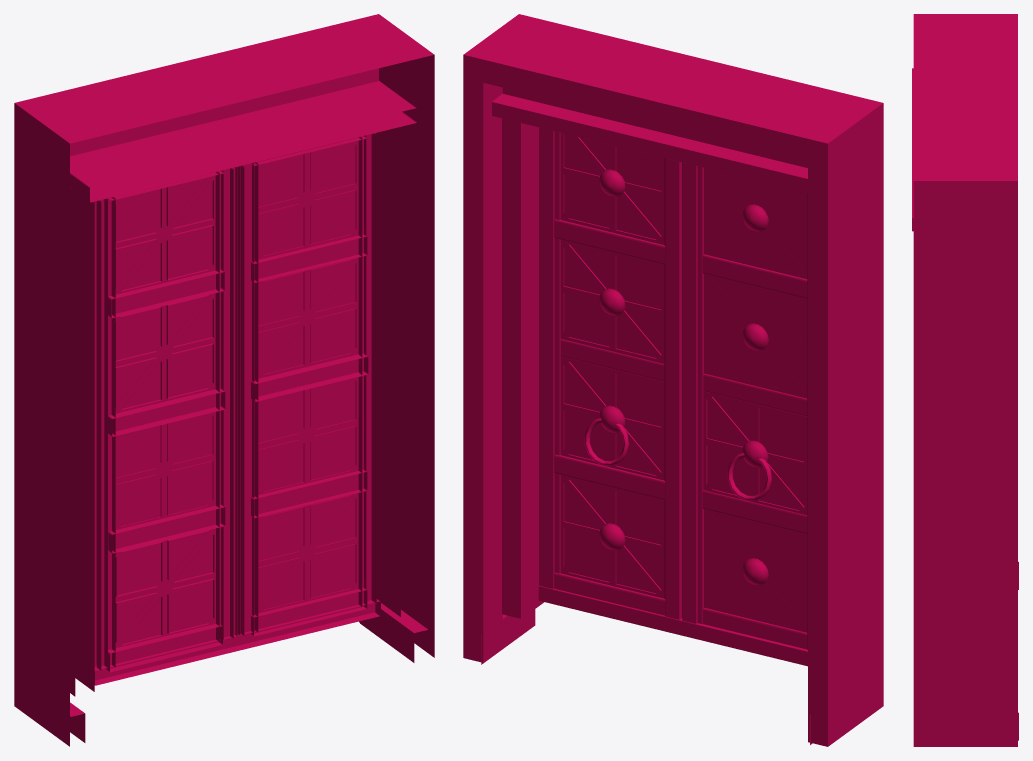
Rendered from SM_TapinakKapi.fbx.
3 views of the same model, side by side, from view 1: azimuth 30°, elevation 25°; view 2: azimuth 150°, elevation 25°; view 3: azimuth 270°, elevation 25° (orthographic). The views are drawn at different scales.
Visible parts, largest first — view 1: Kapilar_Orta_Tabak2; view 2: Kapilar_Orta_Tabak2; view 3: Kapilar_Orta_Tabak2.
Boxes of the visible parts, x1,y1,x2,y2 form: Kapilar_Orta_Tabak2: [14, 14, 434, 746]; Kapilar_Orta_Tabak2: [463, 14, 883, 746]; Kapilar_Orta_Tabak2: [912, 14, 1018, 746].
Size of the model in its own units: 184 by 49.81 by 292.
